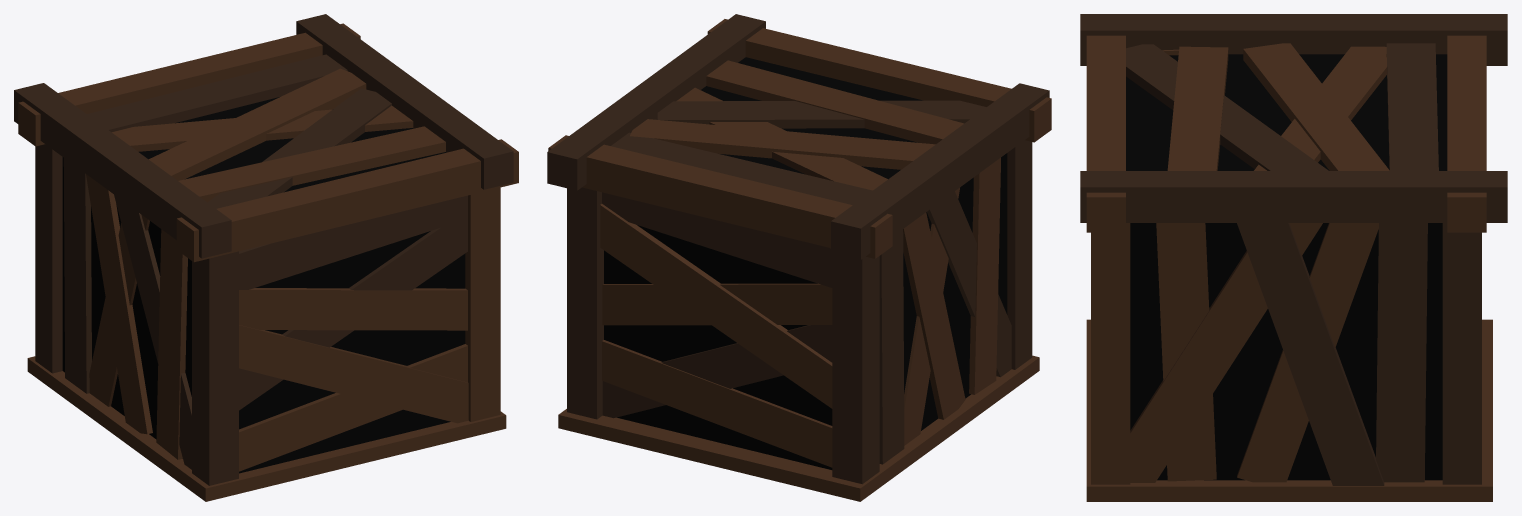
3 renders of one model, left to right at view 1: azimuth 30°, elevation 25°; view 2: azimuth 150°, elevation 25°; view 3: azimuth 270°, elevation 25°, orthographic. The views are drawn at different scales.
Parts seen in each view (by area): view 1: InsideBox.001, Cube.004, Cube.034, Cube.003, Cube.009, Base.001, Cube.008, Cube.033, Cube.032, Cube.005, Cube.011, Cube.031 (+12 smaller); view 2: InsideBox.001, Cube.032, Cube.034, Base.001, Cube.018, Cube.007, Cube.021, Cube.033, Cube.004, Cube.006, Cube.030, Cube.017 (+12 smaller); view 3: InsideBox.001, Cube.033, Cube.034, Cube.013, Cube.012, Cube.014, Base.001, Cube.006, Cube.005, Cube.015, Cube.016, Cube.030 (+6 smaller).
Boxes of the visible parts, box(x1,y1,x2,y2) form: InsideBox.001: box(62, 97, 465, 473); Cube.004: box(176, 139, 518, 262); Cube.034: box(14, 83, 231, 258); Cube.003: box(192, 251, 238, 485); Cube.009: box(239, 325, 468, 423); Base.001: box(27, 356, 506, 501); Cube.008: box(239, 288, 467, 330); Cube.033: box(296, 14, 513, 189); Cube.032: box(18, 23, 360, 146); Cube.005: box(465, 187, 500, 421); Cube.011: box(239, 195, 467, 289); Cube.031: box(178, 126, 445, 202); InsideBox.001: box(604, 57, 1007, 469); Cube.032: box(548, 135, 892, 258); Cube.034: box(831, 83, 1049, 259); Base.001: box(558, 355, 1039, 501); Cube.018: box(600, 204, 832, 408); Cube.007: box(832, 253, 879, 484); Cube.021: box(602, 340, 832, 467); Cube.033: box(547, 14, 765, 190); Cube.004: box(707, 19, 1051, 142); Cube.006: box(567, 187, 603, 419); Cube.030: box(630, 119, 935, 169); Cube.017: box(602, 192, 832, 287); InsideBox.001: box(1126, 54, 1447, 480); Cube.033: box(1080, 171, 1507, 222); Cube.034: box(1080, 14, 1507, 65); Cube.013: box(1237, 223, 1384, 485); Cube.012: box(1376, 223, 1427, 482); Cube.014: box(1130, 223, 1322, 482); Base.001: box(1086, 319, 1492, 501); Cube.006: box(1442, 223, 1481, 484); Cube.005: box(1091, 223, 1130, 484); Cube.015: box(1237, 223, 1378, 482); Cube.016: box(1156, 223, 1216, 481); Cube.030: box(1243, 43, 1389, 170).
Bounding box in the file's own units: 6.43 × 5.27 × 6.43.
